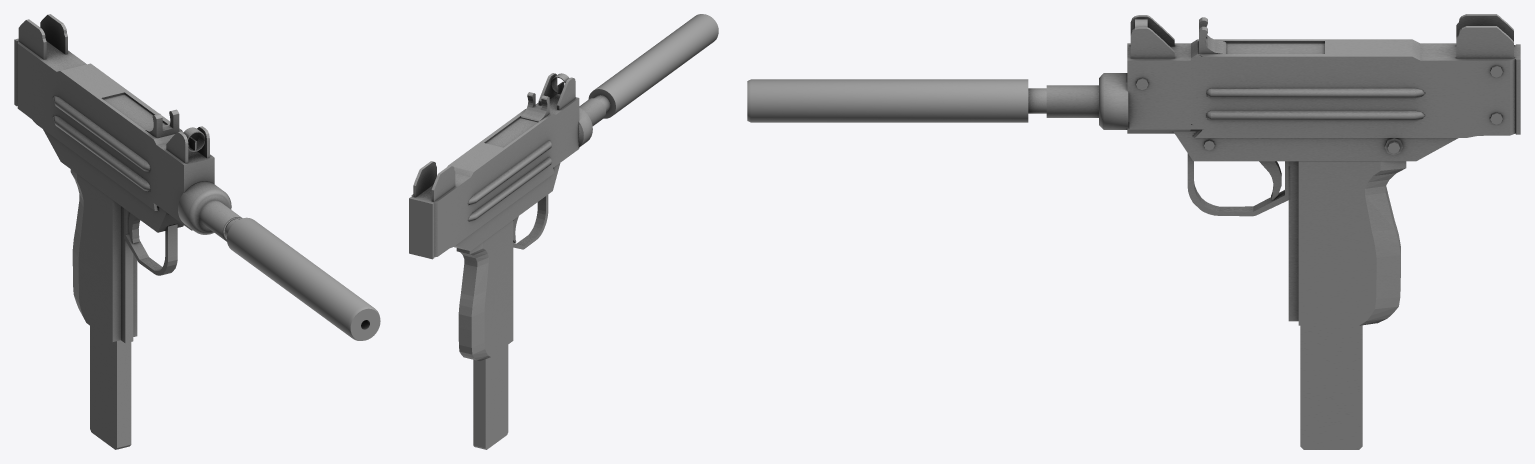
Rendered from uzi.dae.
3 renders of one model, left to right at view 1: azimuth 30°, elevation 25°; view 2: azimuth 150°, elevation 25°; view 3: azimuth 270°, elevation 25°, orthographic. The views are drawn at different scales.
Visible parts, largest first — view 1: Body, Silencer, Mag; view 2: Body, Silencer, Mag; view 3: Body, Silencer, Mag.
Part boxes in pixels (<box>): Body: <box>14,14,242,343</box>; Silencer: <box>225,217,380,340</box>; Mag: <box>90,326,131,449</box>; Body: <box>409,73,605,360</box>; Silencer: <box>588,14,718,118</box>; Mag: <box>473,345,508,449</box>; Body: <box>1046,14,1520,325</box>; Silencer: <box>747,79,1046,122</box>; Mag: <box>1300,325,1362,449</box>.
Size of the model in its own units: 0.0435 by 0.5886 by 0.3571.
3 materials, 3 textured.
